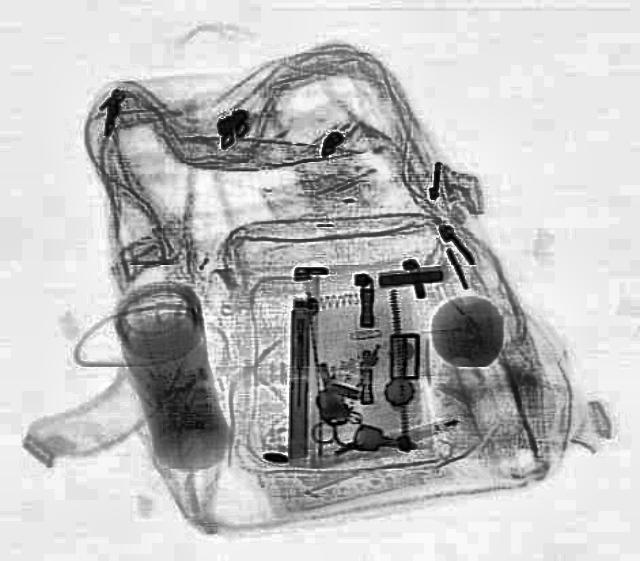Scissors: (296, 357, 364, 451)
